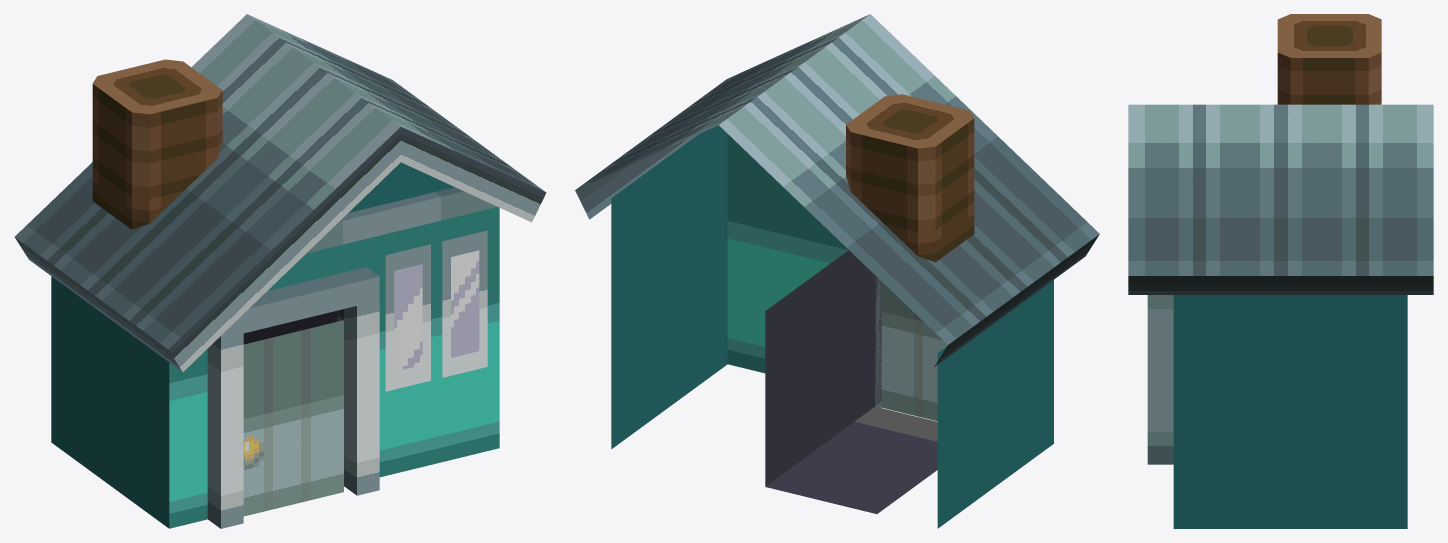
File: house.glb
3 renders of one model, left to right at view 1: azimuth 30°, elevation 25°; view 2: azimuth 150°, elevation 25°; view 3: azimuth 270°, elevation 25°, orthographic.
Visible parts, largest first — view 1: house; view 2: house; view 3: house.
Part boxes in pixels (x1,y1,x2,y2): house: (14,14,546,528); house: (575,14,1099,528); house: (1128,14,1433,528).
Bounding box in the file's own units: 4.17 × 3.94 × 2.94.
Materials: 4 (4 with a texture image).
